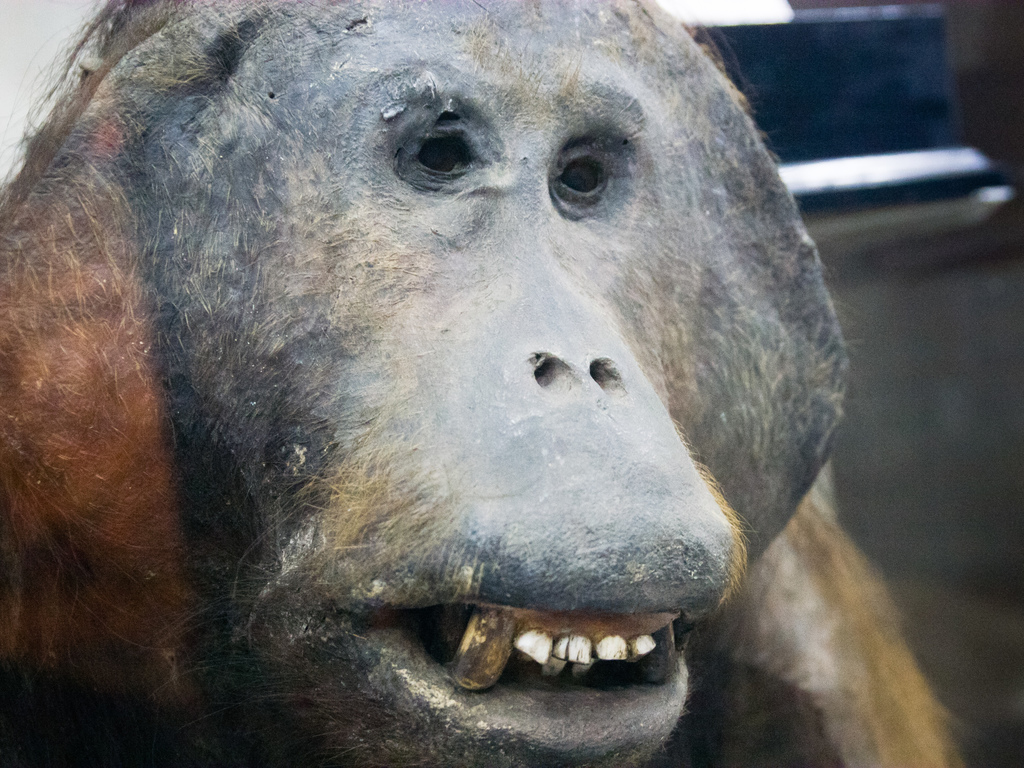Animal: (0, 0, 974, 766)
